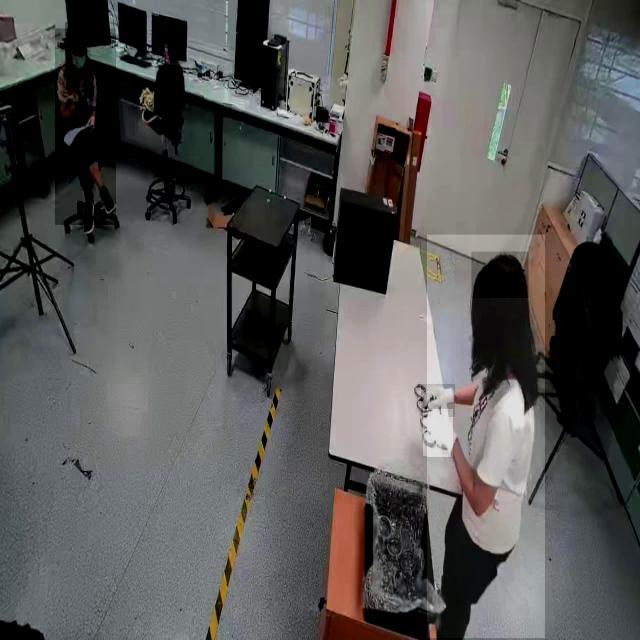face_mask: (69, 36, 91, 76)
hand_glove: (423, 409, 453, 457), (421, 384, 455, 417)
hand_noglove: (86, 111, 96, 133)
head_nohelmet: (471, 252, 529, 298), (65, 22, 85, 36)
person: (427, 235, 545, 639), (55, 28, 117, 226)
shoes: (80, 192, 98, 243), (96, 181, 118, 220)
